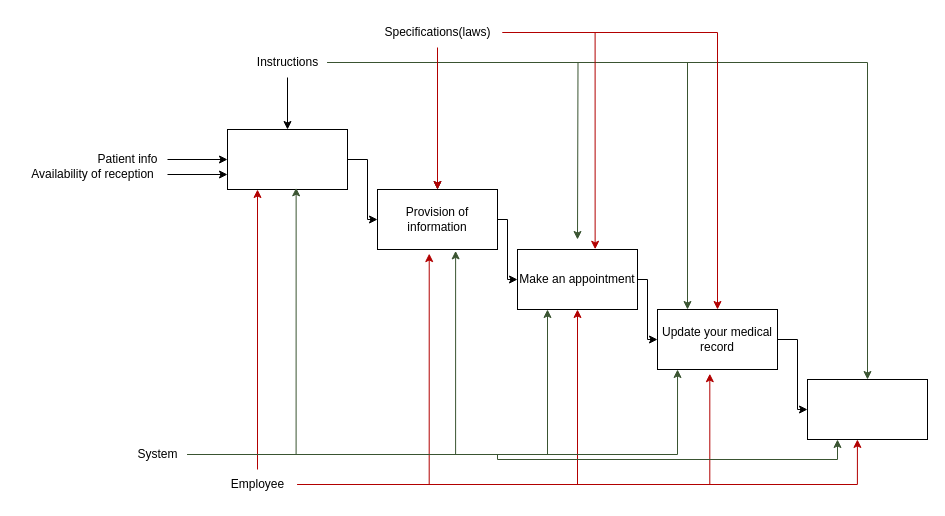
The diagram is 945 pixels wide and 516 high, and some of its shapes have lost their labels. The centre of each missing label's shape, as x and y in pixels:
"Checking reception availability" goes at pixel 287 159.
"Logging out of the appointment registration system" goes at pixel 867 409.
